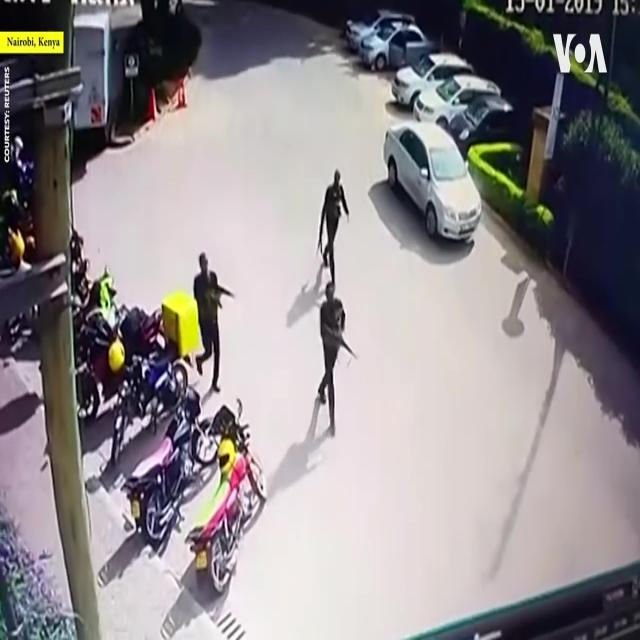Weapon: (317, 316, 359, 370), (204, 266, 242, 321), (320, 194, 334, 262)
